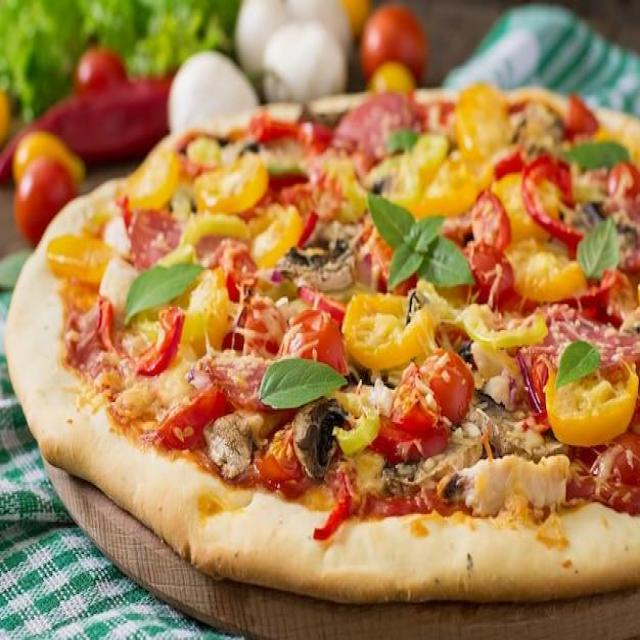basil: (366, 194, 475, 296), (123, 261, 208, 326), (256, 358, 348, 407), (577, 214, 618, 282), (554, 339, 603, 390), (559, 144, 629, 171), (387, 127, 417, 152), (264, 162, 305, 180)
pizza: (6, 84, 640, 606)
